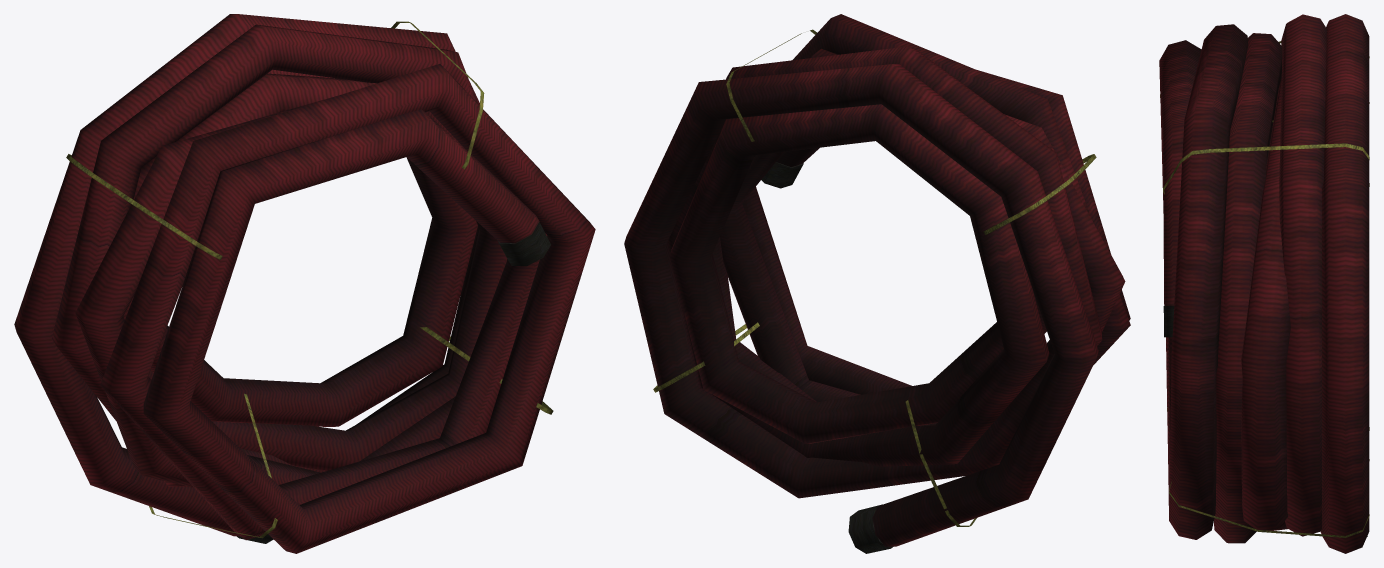
File: p6_industrial_tubing_01_LOD1.obj
The picture shows the model from 3 angles, left to right: view 1: azimuth 30°, elevation 25°; view 2: azimuth 150°, elevation 25°; view 3: azimuth 270°, elevation 25°; orthographic projection. The views are drawn at different scales.
Parts seen in each view (by area): view 1: mtl_p6_industrial_tubing_02, mtl_p6_industrial_tubing_01; view 2: mtl_p6_industrial_tubing_02, mtl_p6_industrial_tubing_01; view 3: mtl_p6_industrial_tubing_02, mtl_p6_industrial_tubing_01.
Part boxes in pixels (bbox=[...]): mtl_p6_industrial_tubing_02: bbox=[14, 14, 595, 553]; mtl_p6_industrial_tubing_01: bbox=[66, 21, 553, 543]; mtl_p6_industrial_tubing_02: bbox=[624, 14, 1130, 546]; mtl_p6_industrial_tubing_01: bbox=[653, 29, 1096, 553]; mtl_p6_industrial_tubing_02: bbox=[1159, 14, 1369, 553]; mtl_p6_industrial_tubing_01: bbox=[1160, 41, 1369, 537].
Size of the model in its own units: 135 by 135 by 49.39.
